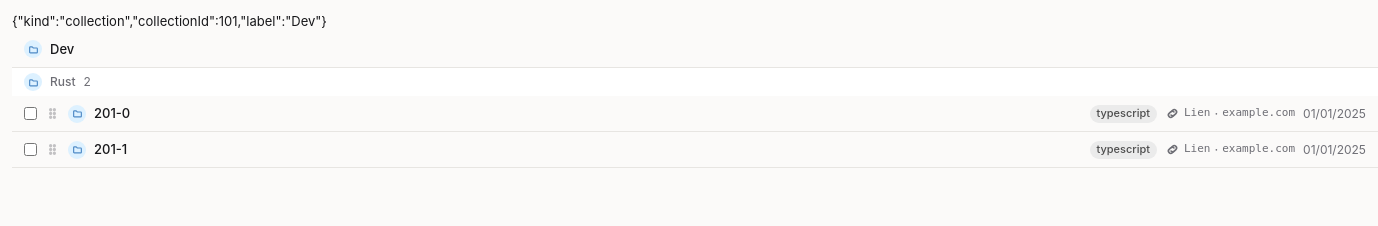
CollectionView › cocher un signet d'une section alimente la barre d'actions
What coordinates should you click on to do the following:
click the checkbox named "Sélectionner 201-0"
I would click on:
 (30, 114)
Its box is [24,107,37,120].
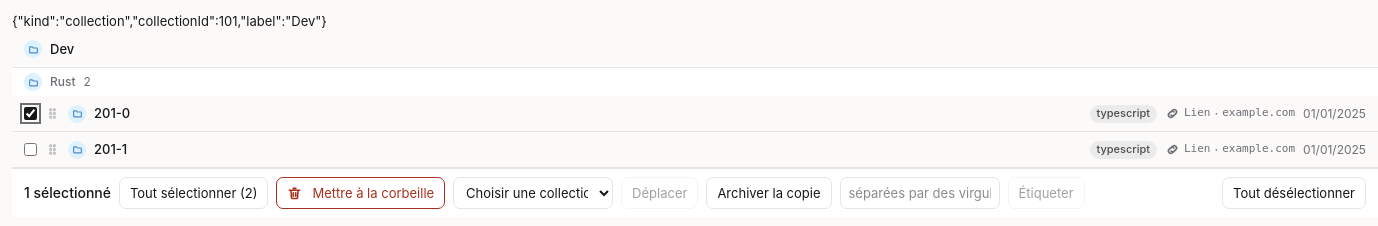
Expected: the text "1 sélectionné" is shown, [24,183,111,203]
